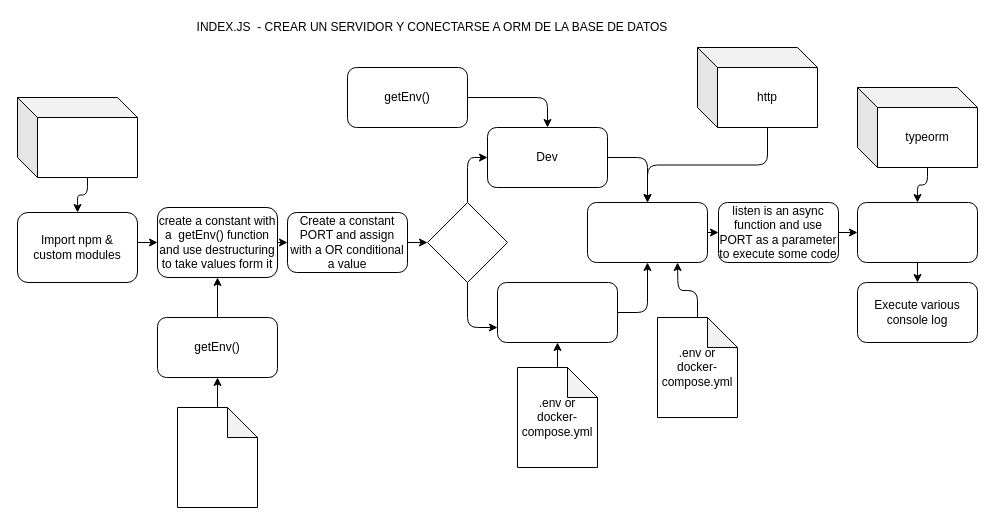
The diagram is 995 pixels wide and 525 high, and some of its shapes have lost their labels. The centre of each missing label's shape, as x and y in pixels:
CreateCoonnection() global: (x=917, y=232)
env.js: (x=217, y=457)
npm: (x=77, y=137)
Prod: (x=557, y=312)
use http module with server function and use app file within: (x=647, y=232)
what env are we working?: (x=467, y=242)
